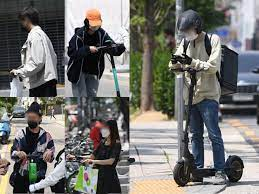guide_blocks: (134, 178, 180, 194)
kick_neck: (109, 58, 122, 95)
kick_wheel: (172, 160, 189, 185), (228, 156, 244, 182)
